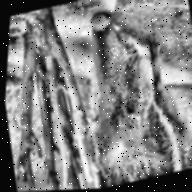boar: (58, 0, 192, 190)
